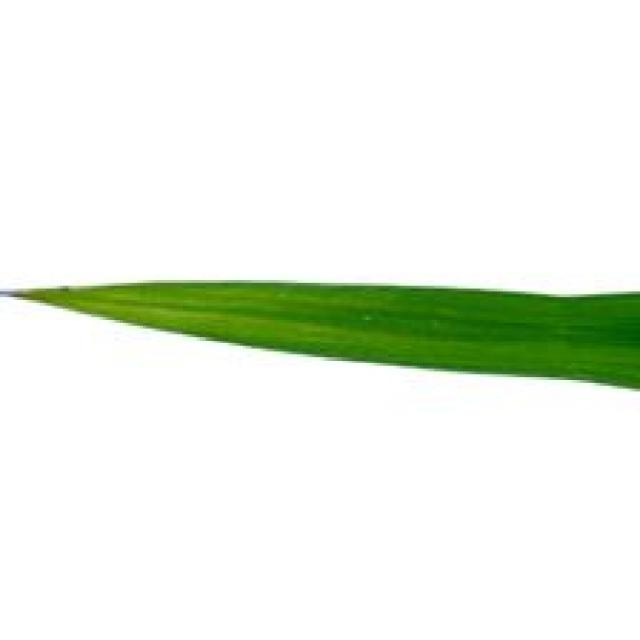Rice___Healthy_Rice_Plant: (0, 286, 637, 393)
